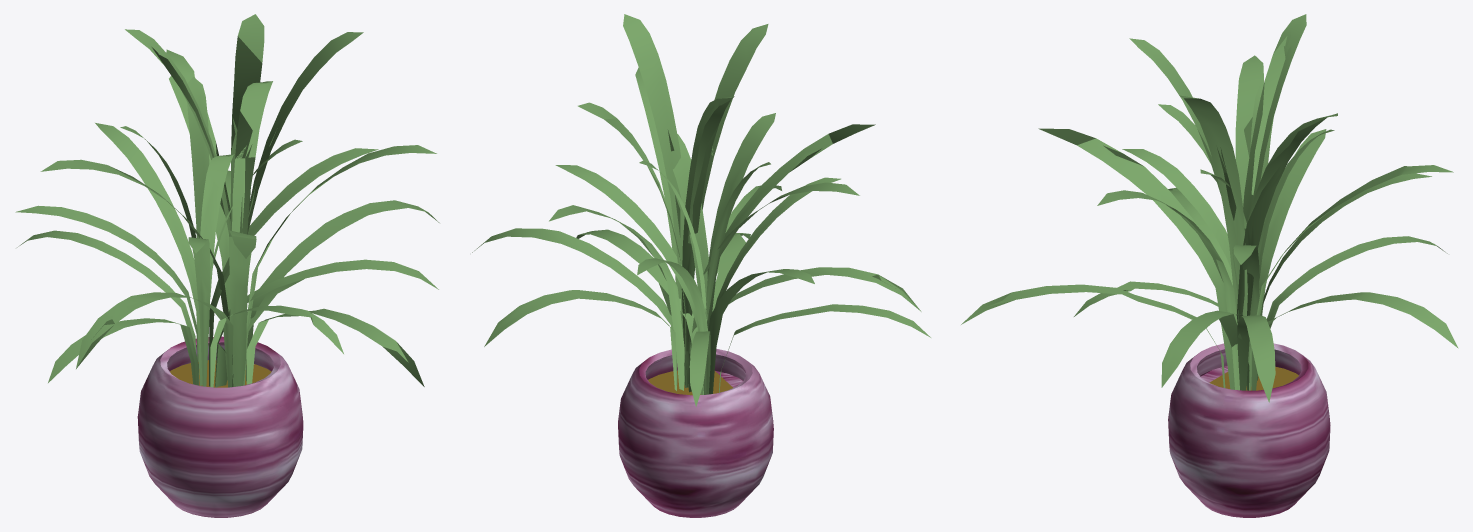
The model's file is sh-contrib-potplant2.glb.
The picture shows the model from 3 angles, left to right: view 1: azimuth 30°, elevation 25°; view 2: azimuth 150°, elevation 25°; view 3: azimuth 270°, elevation 25°; orthographic projection. The views are drawn at different scales.
Parts seen in each view (by area): view 1: Potplant2_1, Potplant2_2, Potplant2_3; view 2: Potplant2_1, Potplant2_2, Potplant2_3; view 3: Potplant2_1, Potplant2_2, Potplant2_3.
Boxes of the visible parts, x1,y1,x2,y2 form: Potplant2_1: (15, 14, 439, 387); Potplant2_2: (137, 336, 303, 517); Potplant2_3: (170, 360, 271, 387); Potplant2_1: (472, 14, 930, 406); Potplant2_2: (618, 348, 773, 517); Potplant2_3: (648, 370, 732, 395); Potplant2_1: (961, 14, 1458, 402); Potplant2_2: (1168, 343, 1330, 517); Potplant2_3: (1209, 366, 1298, 390).
Size of the model in its own units: 1 by 1 by 1.
Materials: 3 (1 with a texture image).
